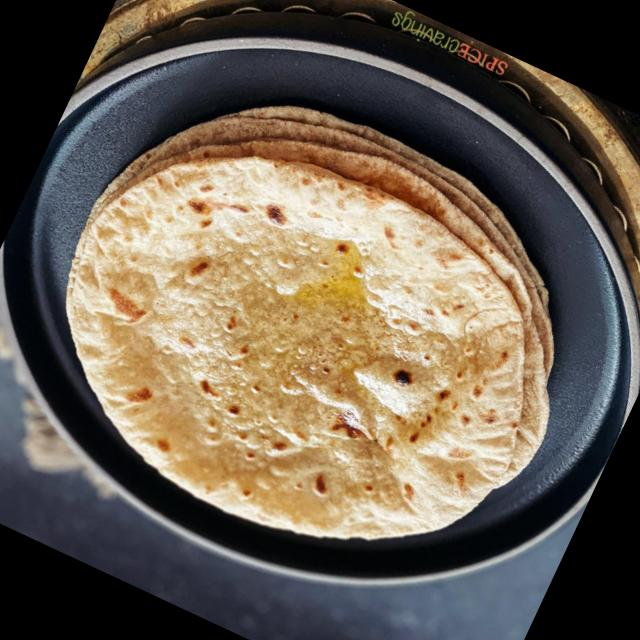roti: (62, 109, 554, 546)
